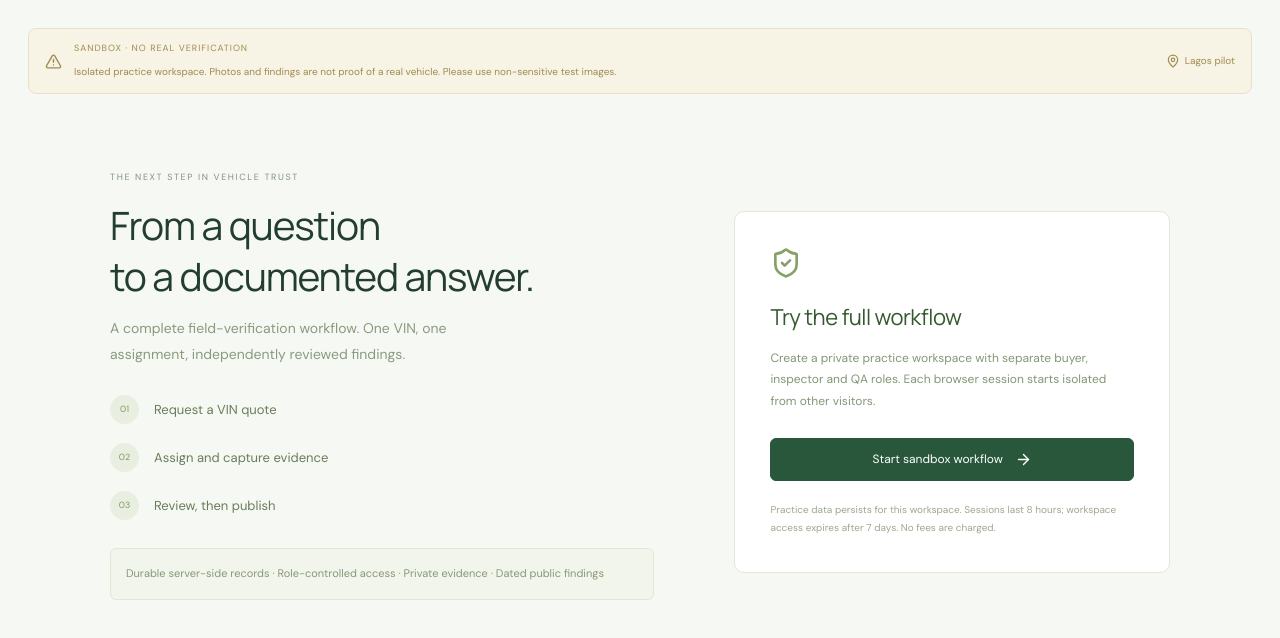
Test: verification workspace › creates an isolated sandbox and requests a server-calculated quote
Step 1. Click the button "Start sandbox workflow" → (952, 459), box [770,438,1134,481]
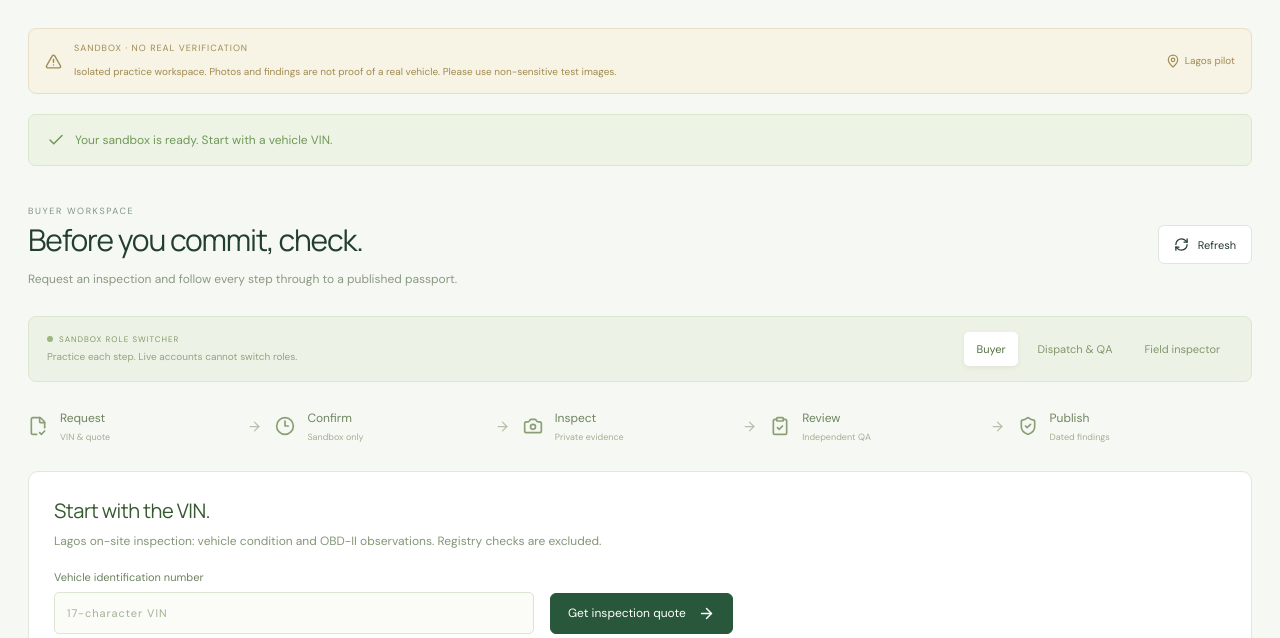
Now the heading "Before you commit, check." is shown, box [28,219,363,260]
Step 2. Type "1HGCM82633A123456" into the field labelled "Vehicle identification number" → (294, 613), box [54,592,534,634]
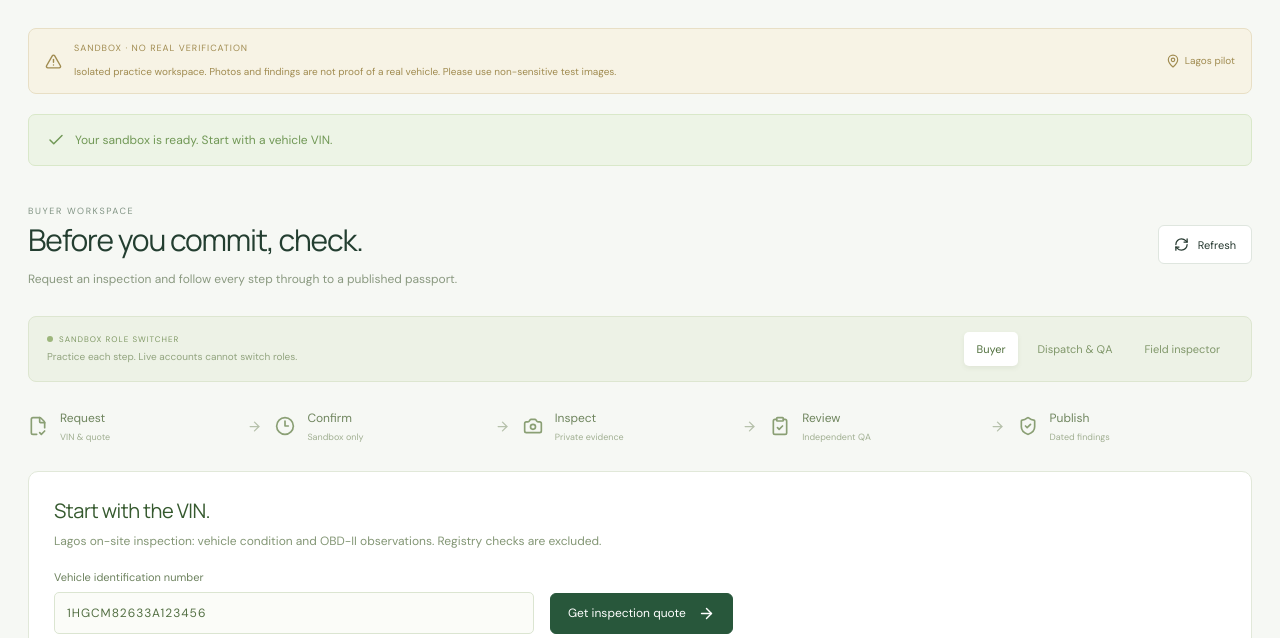
Step 3. Click the button "Get inspection quote" → (641, 613), box [550,593,733,634]
(page scrolled)
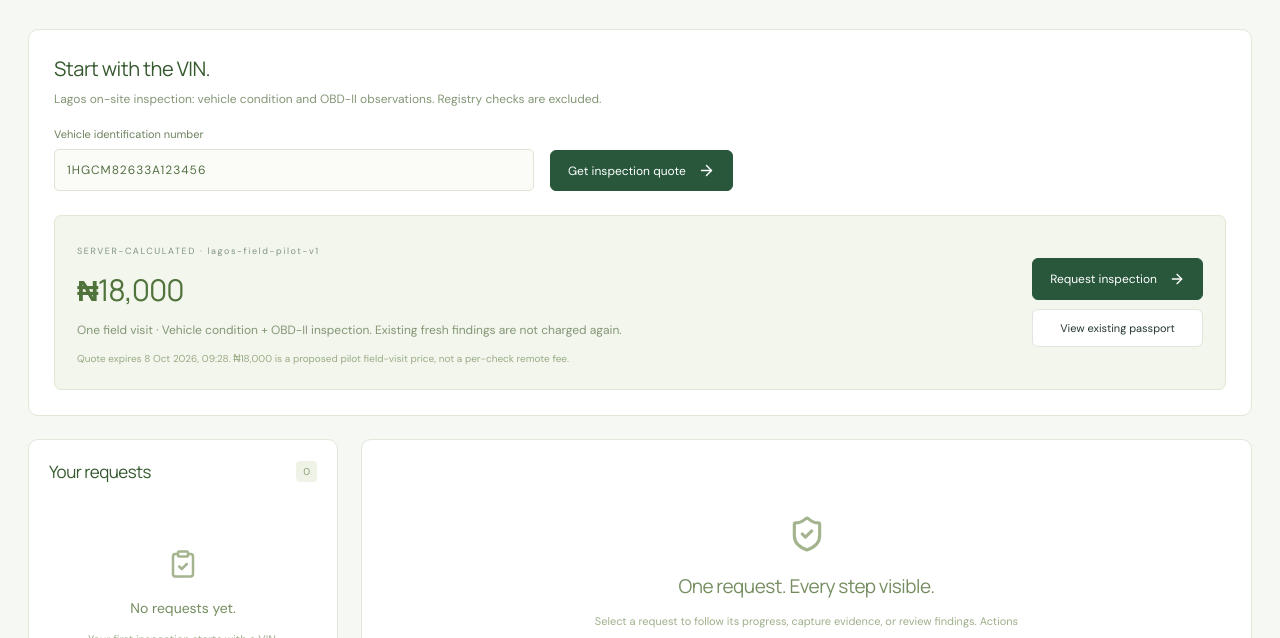
Now the heading "₦18,000" is shown, box [77,269,184,310]
Now the button "Request inspection" is shown, box [1032,258,1203,300]
